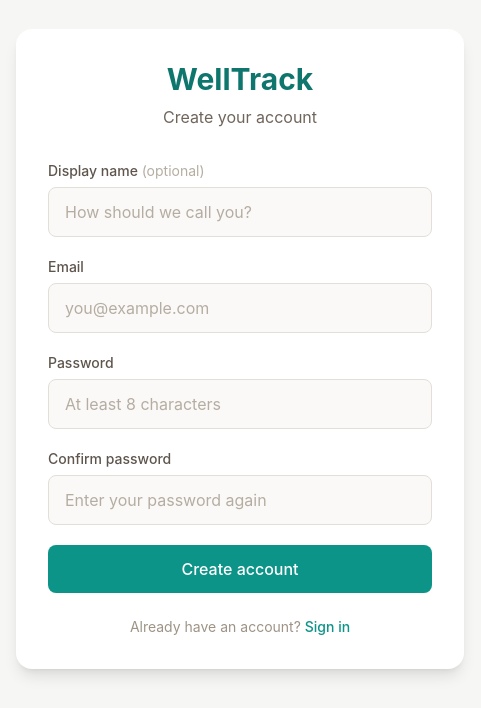
it: RegisterPage › shows validation error for invalid email
The width and height of the screenshot is (481, 708).
Expected: the button "Create account" is shown, [48,545,432,593]
Type "not-valid" into the field labelled "Email".
click(240, 308); type("not-valid")  # box [48,283,432,333]
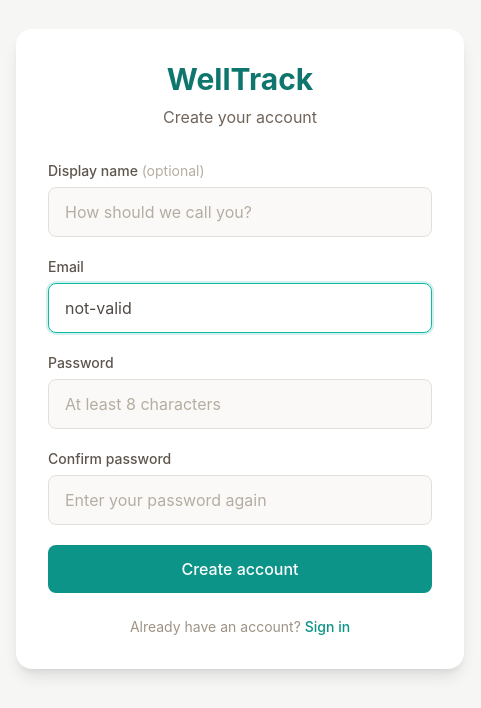
Type "password123" into the password field labelled "Password".
click(240, 404); type("password123")  # box [48,379,432,429]
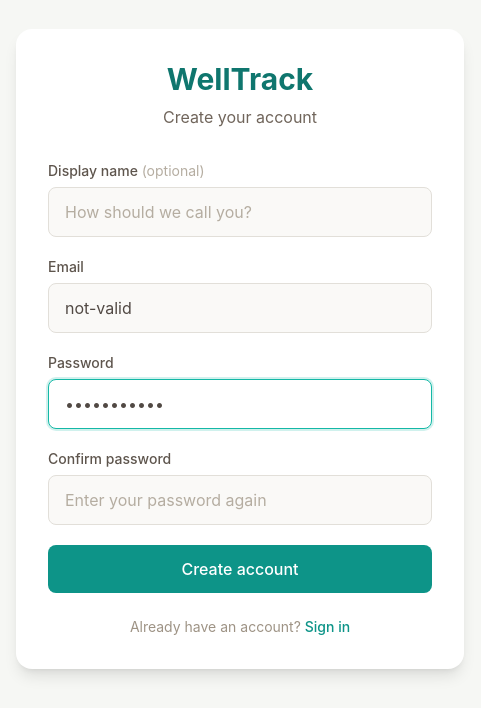
Type "password123" into the password field labelled "Confirm password".
click(240, 500); type("password123")  # box [48,475,432,525]
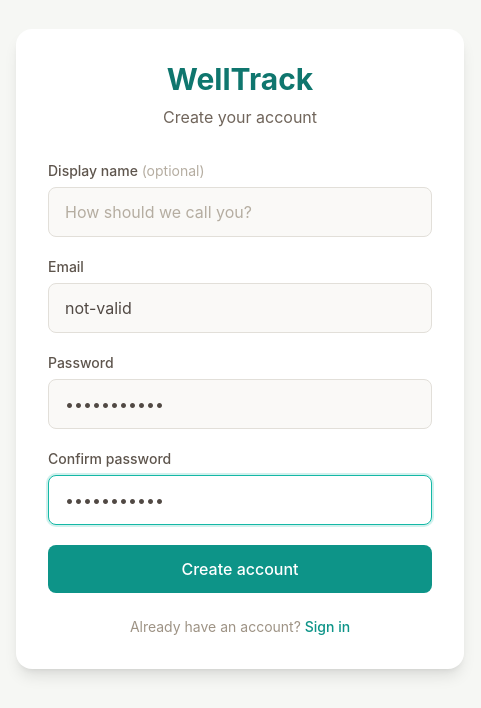
Click the button "Create account".
click(240, 569)  # box [48,545,432,593]
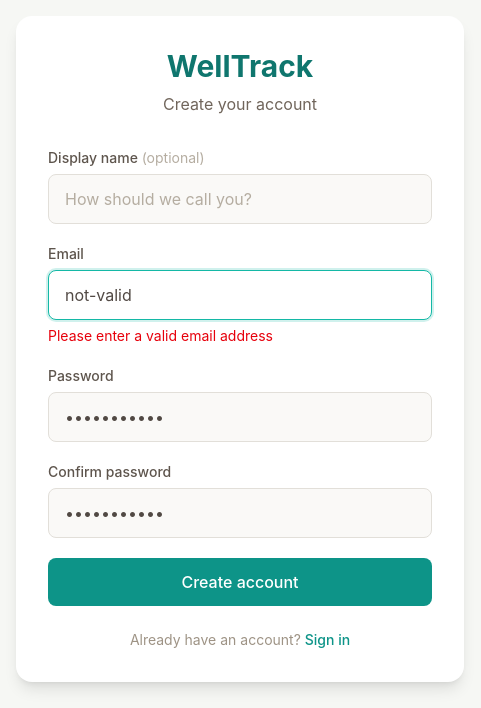
Expected: the text "Please enter a valid email address" is shown, [48,327,273,344]
